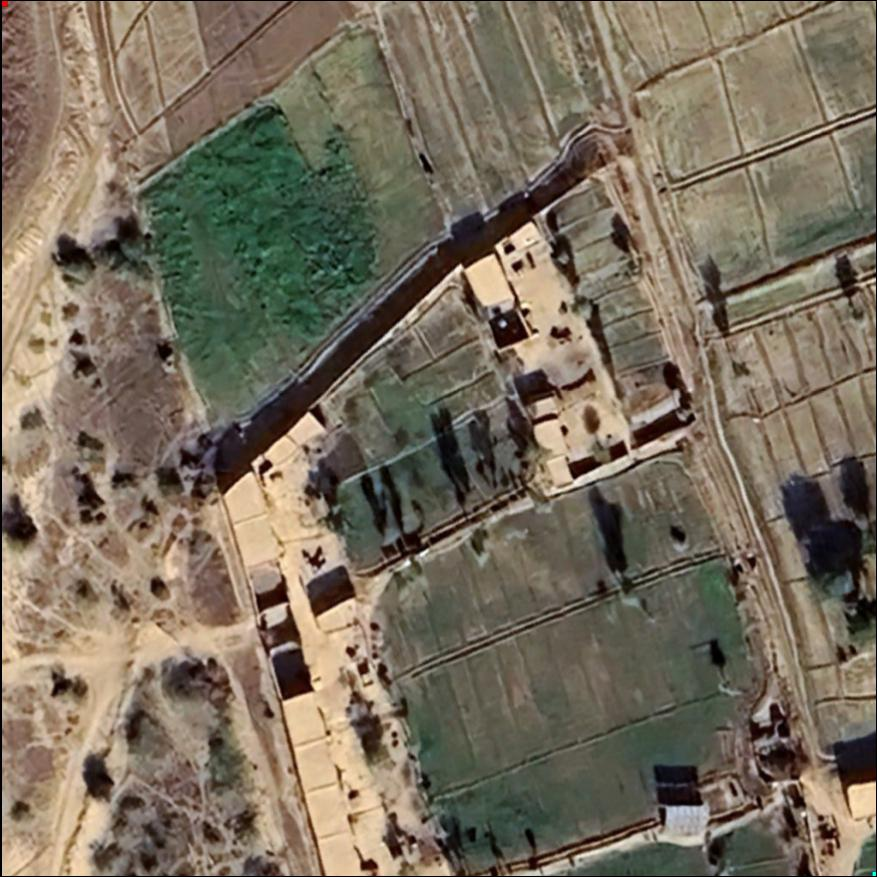Solarpanel: (657, 800, 712, 839)
